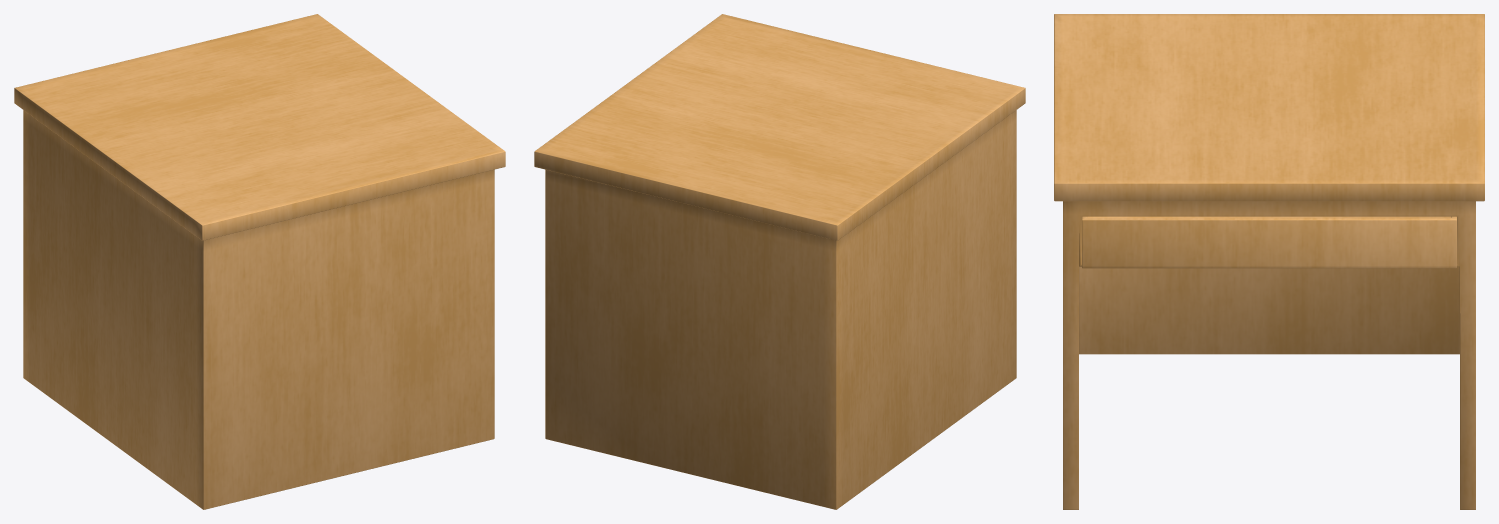
Rendered from bedroomDesk.fbx.
The picture shows the model from 3 angles, left to right: view 1: azimuth 30°, elevation 25°; view 2: azimuth 150°, elevation 25°; view 3: azimuth 270°, elevation 25°; orthographic projection. The views are drawn at different scales.
Visible parts, largest first — view 1: 书桌; view 2: 书桌; view 3: 书桌, 抽屉.
Boxes of the visible parts, x1,y1,x2,y2 form: 书桌: [14, 14, 505, 509]; 书桌: [534, 14, 1025, 509]; 书桌: [1054, 14, 1484, 509]; 抽屉: [1082, 216, 1456, 268].
Size of the model in its own units: 148 by 135 by 159.
